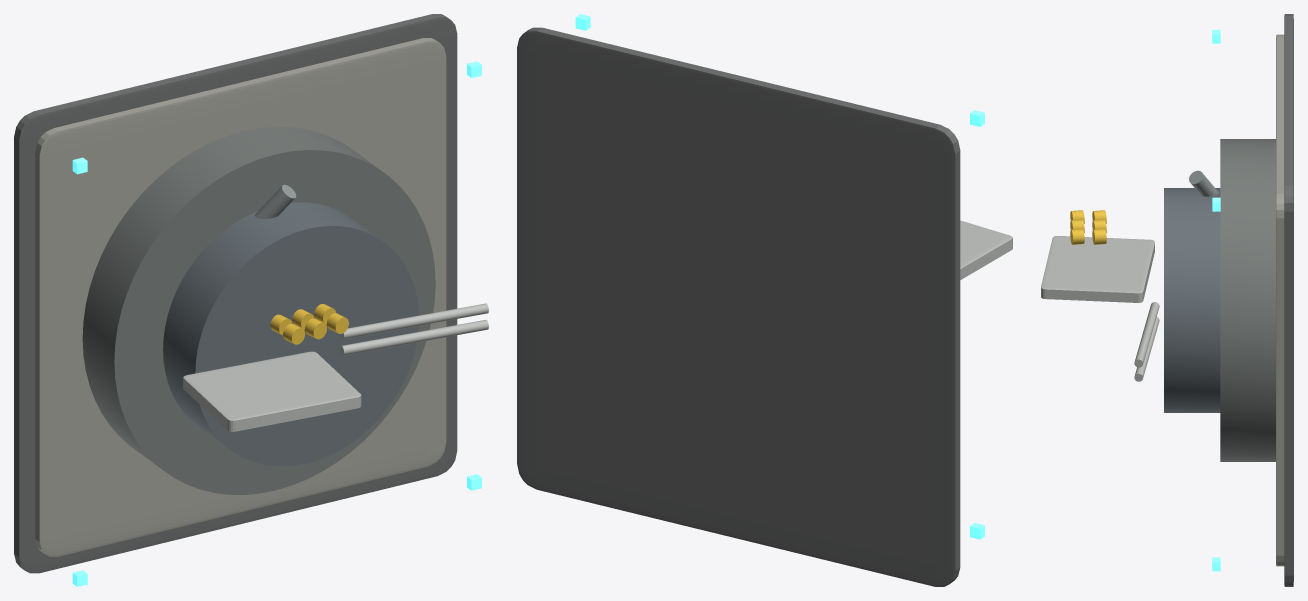
File: b-33-counter-uas-lod2.glb
3 views of the same model, side by side, from view 1: azimuth 30°, elevation 25°; view 2: azimuth 150°, elevation 25°; view 3: azimuth 270°, elevation 25° (orthographic). The views are drawn at different scales.
Parts seen in each view (by area): view 1: foundation_inner_pad, turret_base, primary_turret_yaw, foundation, primary_flat_radar, cuas_gun_barrel_0, cuas_gun_barrel_1, tripod_leg_1; view 2: foundation, primary_flat_radar; view 3: turret_base, primary_turret_yaw, primary_flat_radar, foundation, foundation_inner_pad, cuas_gun_barrel_1, tripod_leg_1, cuas_gun_barrel_0.
Boxes of the visible parts, bbox=[...] form: foundation_inner_pad: bbox=[35, 38, 446, 556]; turret_base: bbox=[82, 126, 435, 494]; primary_turret_yaw: bbox=[163, 202, 418, 466]; foundation: bbox=[14, 14, 457, 573]; primary_flat_radar: bbox=[183, 351, 361, 431]; cuas_gun_barrel_0: bbox=[340, 320, 488, 355]; cuas_gun_barrel_1: bbox=[340, 303, 488, 339]; tripod_leg_1: bbox=[255, 184, 296, 218]; foundation: bbox=[517, 27, 960, 586]; primary_flat_radar: bbox=[960, 220, 1012, 279]; turret_base: bbox=[1220, 139, 1275, 461]; primary_turret_yaw: bbox=[1164, 188, 1220, 412]; primary_flat_radar: bbox=[1041, 236, 1154, 302]; foundation: bbox=[1284, 14, 1293, 586]; foundation_inner_pad: bbox=[1276, 34, 1284, 566]; cuas_gun_barrel_1: bbox=[1134, 302, 1159, 367]; tripod_leg_1: bbox=[1189, 170, 1218, 196]; cuas_gun_barrel_0: bbox=[1134, 317, 1159, 381].
Size of what is drawn, in the model's own units: 9 by 9 by 5.16.
